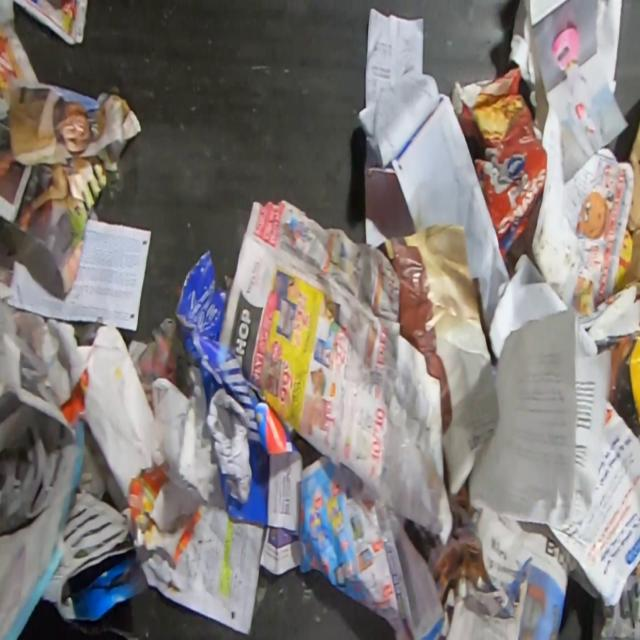cardboard: (449, 67, 547, 262), (575, 279, 640, 442), (614, 115, 640, 291)
soft_plastic: (0, 420, 150, 640), (0, 295, 78, 640), (356, 413, 432, 550)
